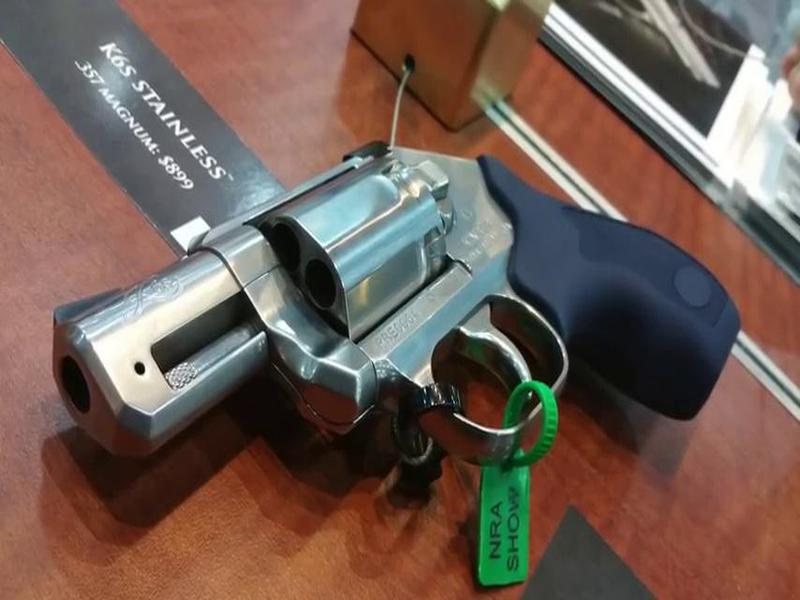Revolver: (53, 133, 754, 497)
